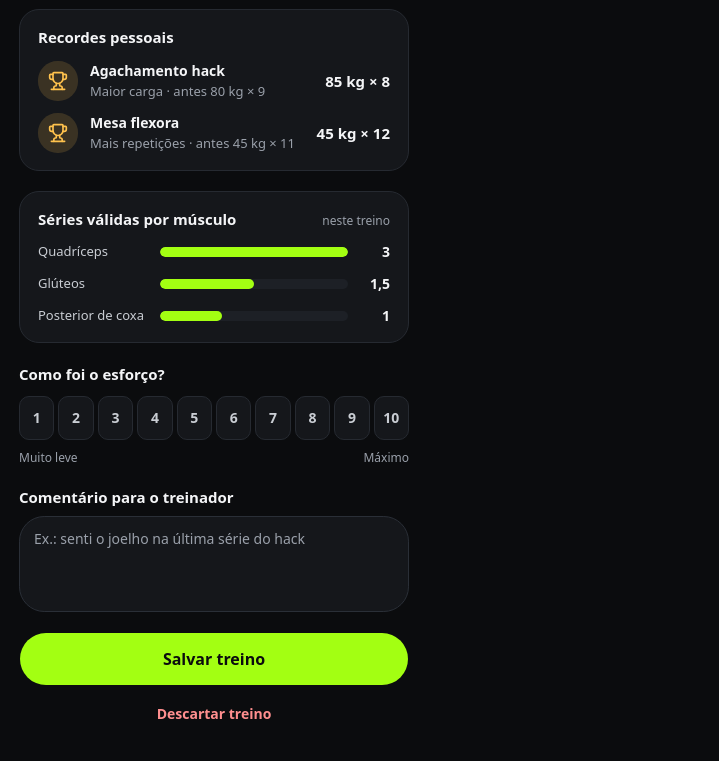
Test: Resumo do treino › se salvar falhar, o treino continua no aparelho
The width and height of the screenshot is (719, 761).
(page scrolled)
Step 1. Click the button "Salvar treino" → (214, 659), box [19,632,409,686]
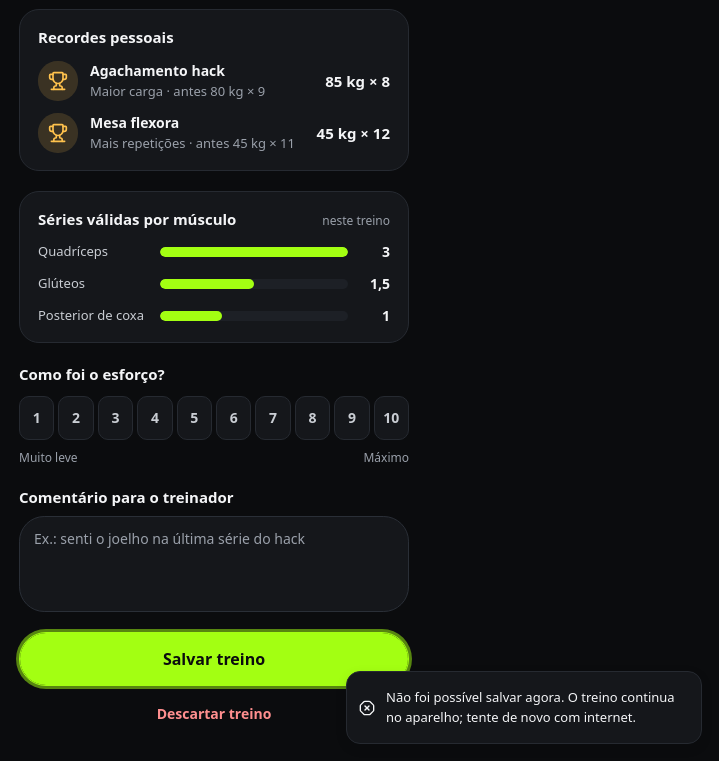
Expected: the text "Não foi possível salvar agora" is shown, [386,688,675,726]
